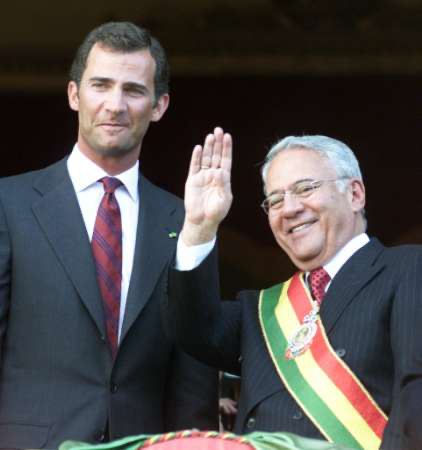Face: (65, 54, 158, 153), (265, 159, 345, 268)
